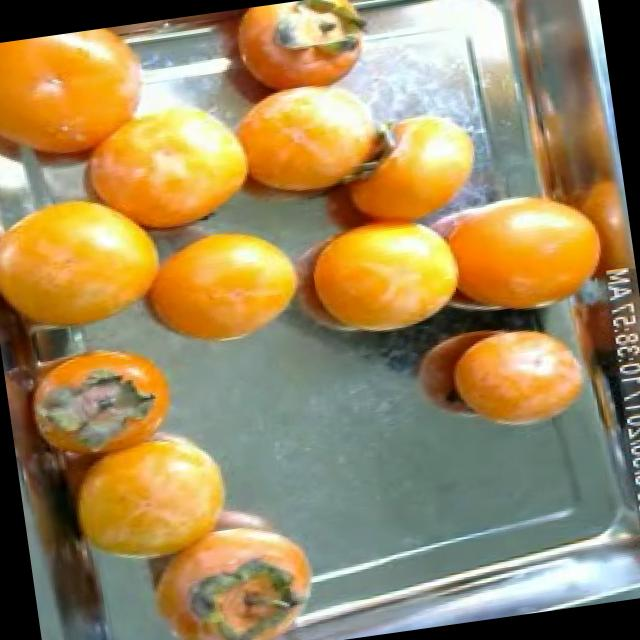Fruit: (35, 404, 259, 592), (264, 196, 485, 364), (0, 167, 194, 356), (117, 206, 319, 370), (400, 311, 602, 452)
